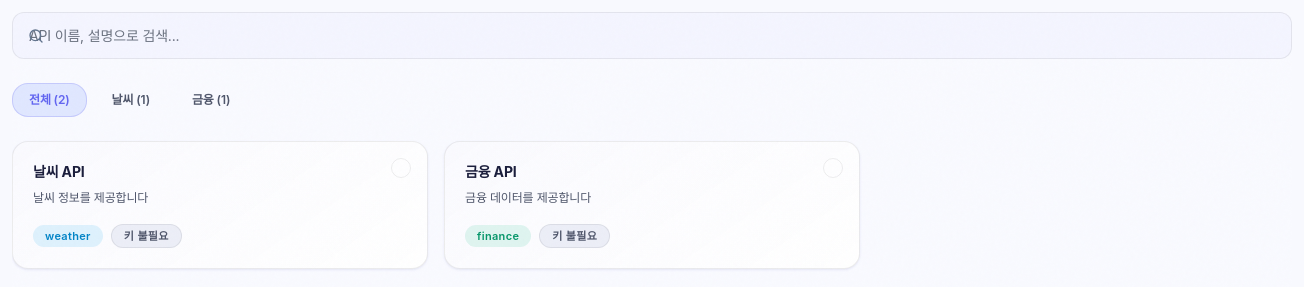
CatalogView › 검색어 입력 후 300ms 후 일치하는 API만 표시된다
The image size is (1304, 287).
Type "날씨" into the field with placeholder "API 이름, 설명으로 검색..." at (652, 36), box [12, 12, 1292, 59]
Wait 300 ms
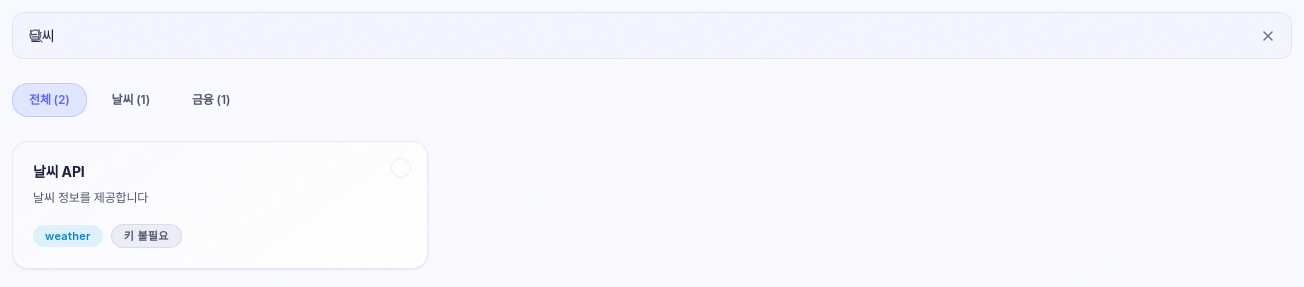
Expected: the heading "날씨 API" is shown, [33, 163, 85, 180]
Now the button "금융 API" is gone
